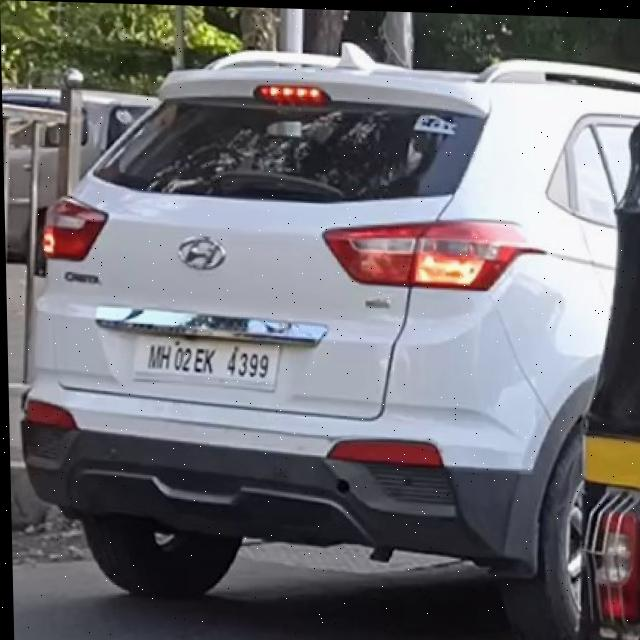plate: (130, 332, 280, 387)
